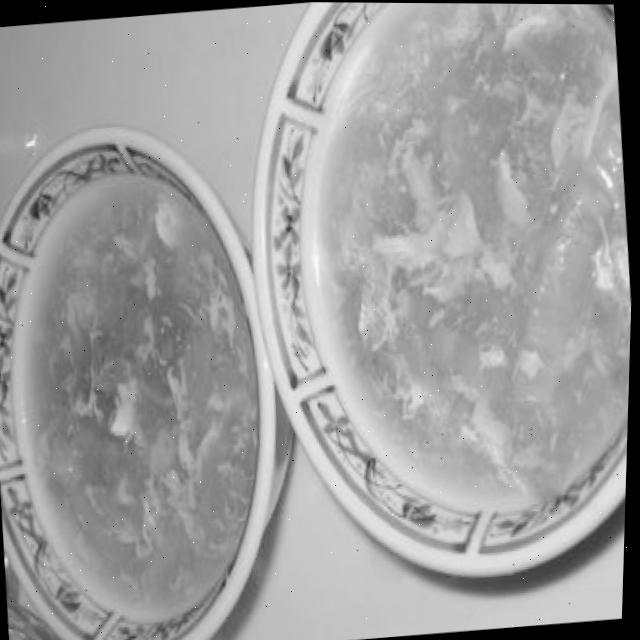汤锅炖物: (213, 1, 640, 601), (0, 110, 320, 640)
